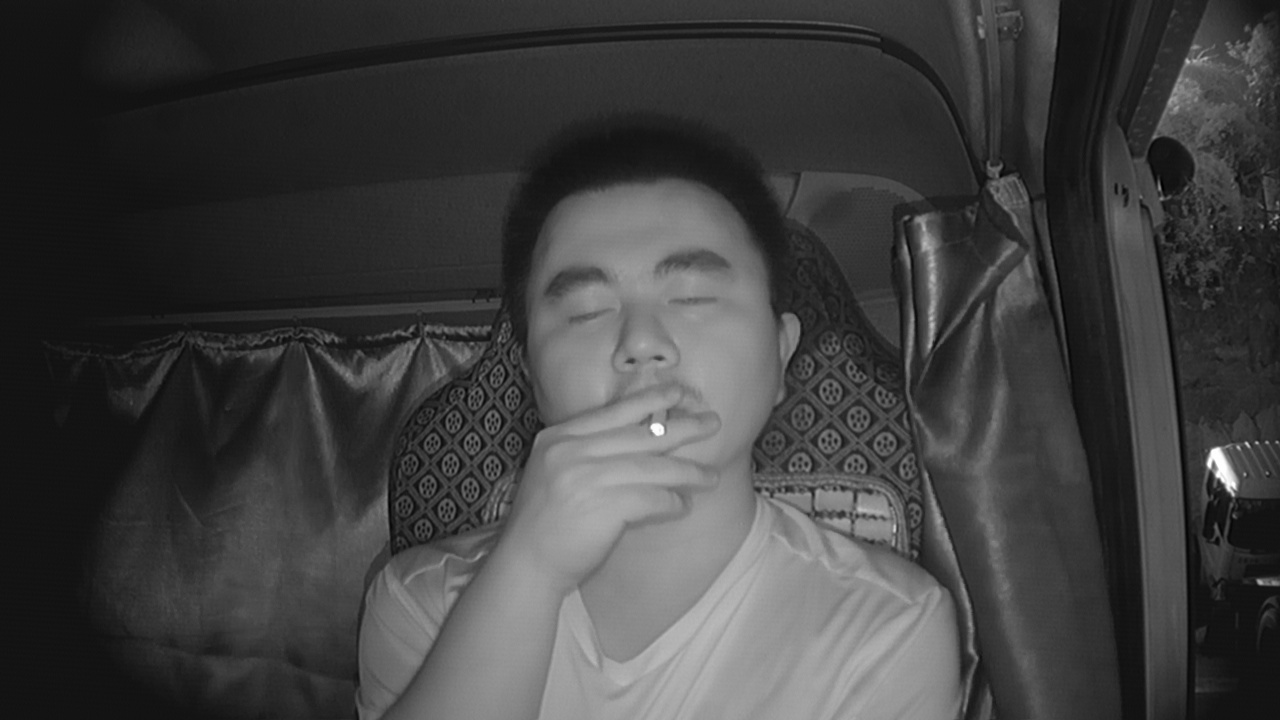hand: (557, 380, 705, 534)
